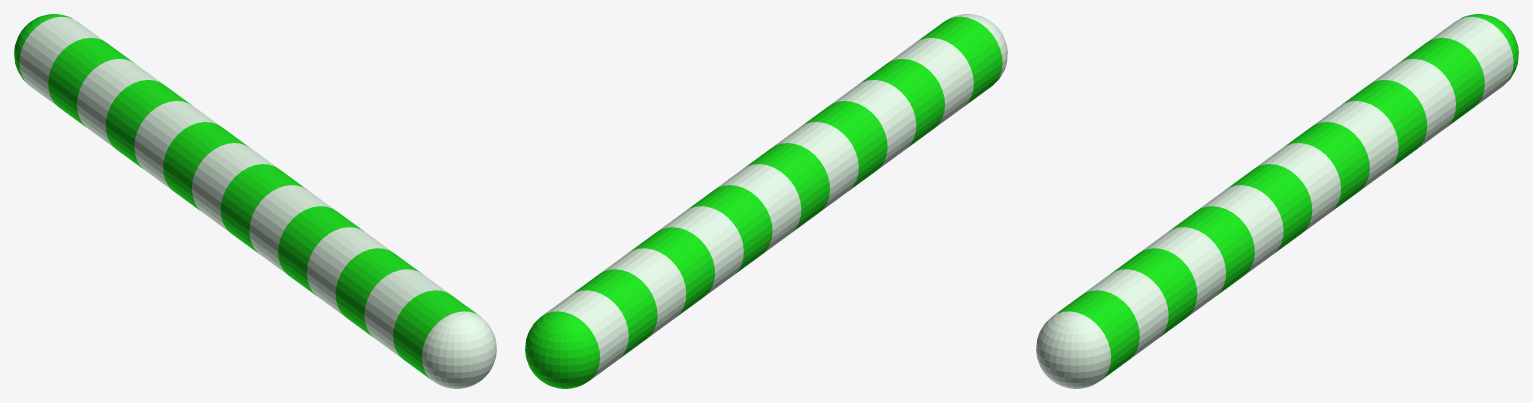
The model's file is Wall2.fbx.
The picture shows the model from 3 angles, left to right: view 1: azimuth 30°, elevation 25°; view 2: azimuth 150°, elevation 25°; view 3: azimuth 330°, elevation 25°; orthographic projection.
Parts seen in each view (by area): view 1: Sphere; view 2: Sphere; view 3: Sphere.
Part boxes in pixels (x1,y1,x2,y2): Sphere: [14, 14, 496, 388]; Sphere: [525, 14, 1007, 388]; Sphere: [1036, 14, 1518, 388].
Bounding box in the file's own units: 100 × 100 × 1100.
